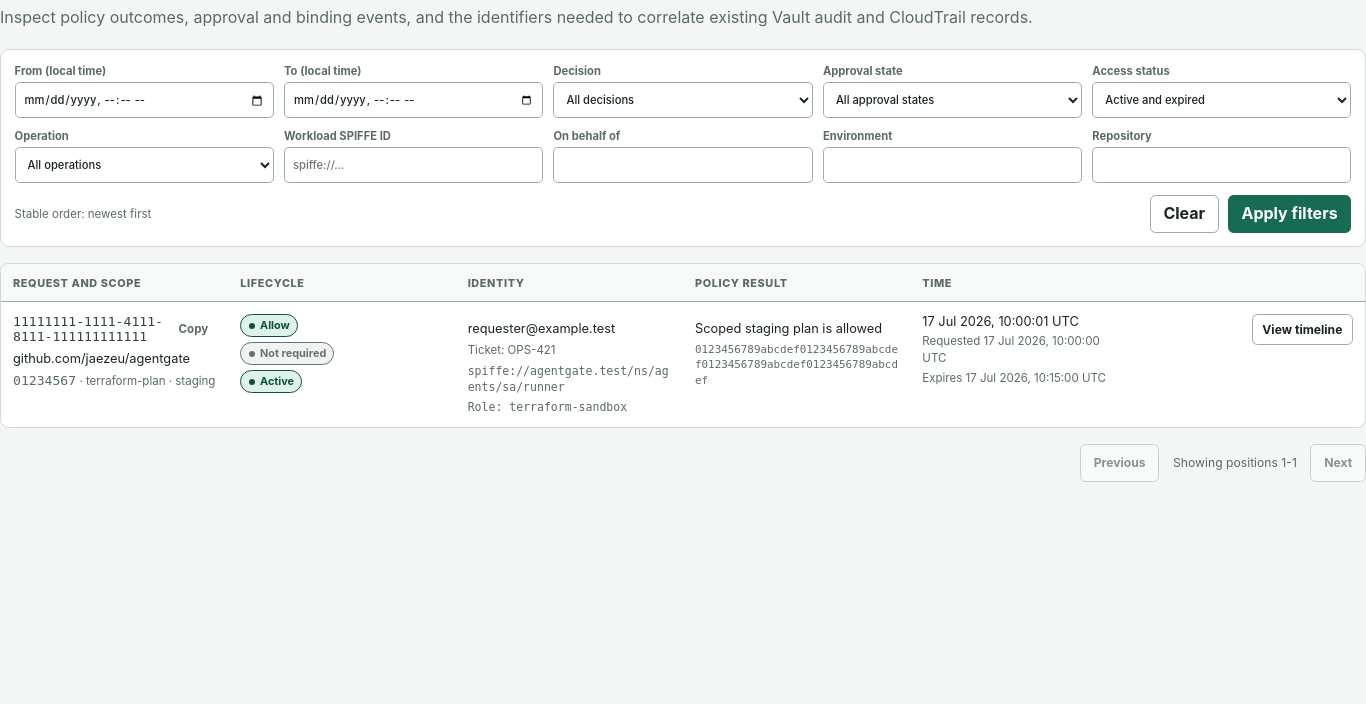
Test: DecisionHistoryView › expands the full correlation timeline and exact audit hints
The image size is (1366, 704).
Click the button "View timeline".
click(1302, 330)  # box [1252,314,1353,345]
(page scrolled)
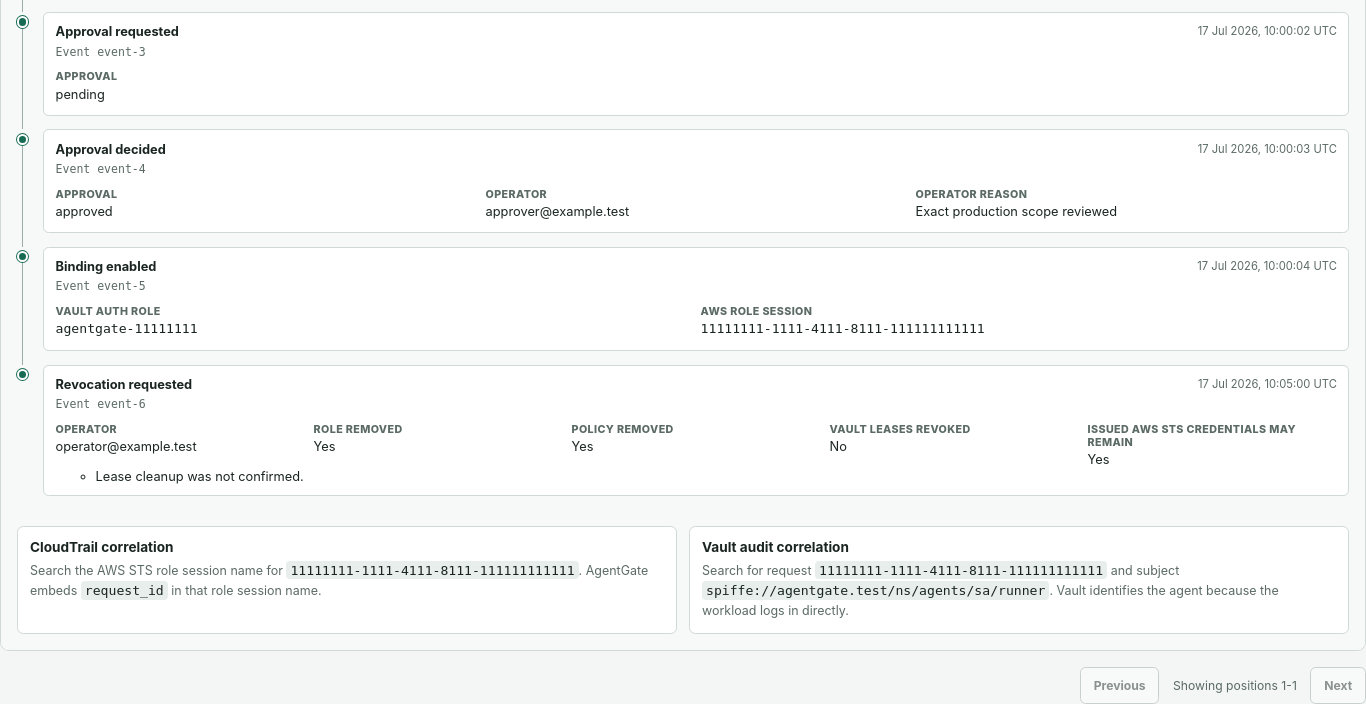
Expected: the text "Approval requested" is shown, [56,24,179,39]
Expected: the text "Approval decided" is shown, [56,142,166,156]
Expected: the text "Binding enabled" is shown, [56,259,156,274]
